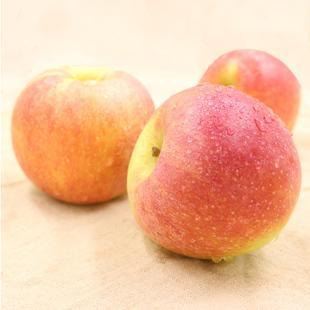apple: (126, 83, 302, 263), (9, 67, 155, 209)
